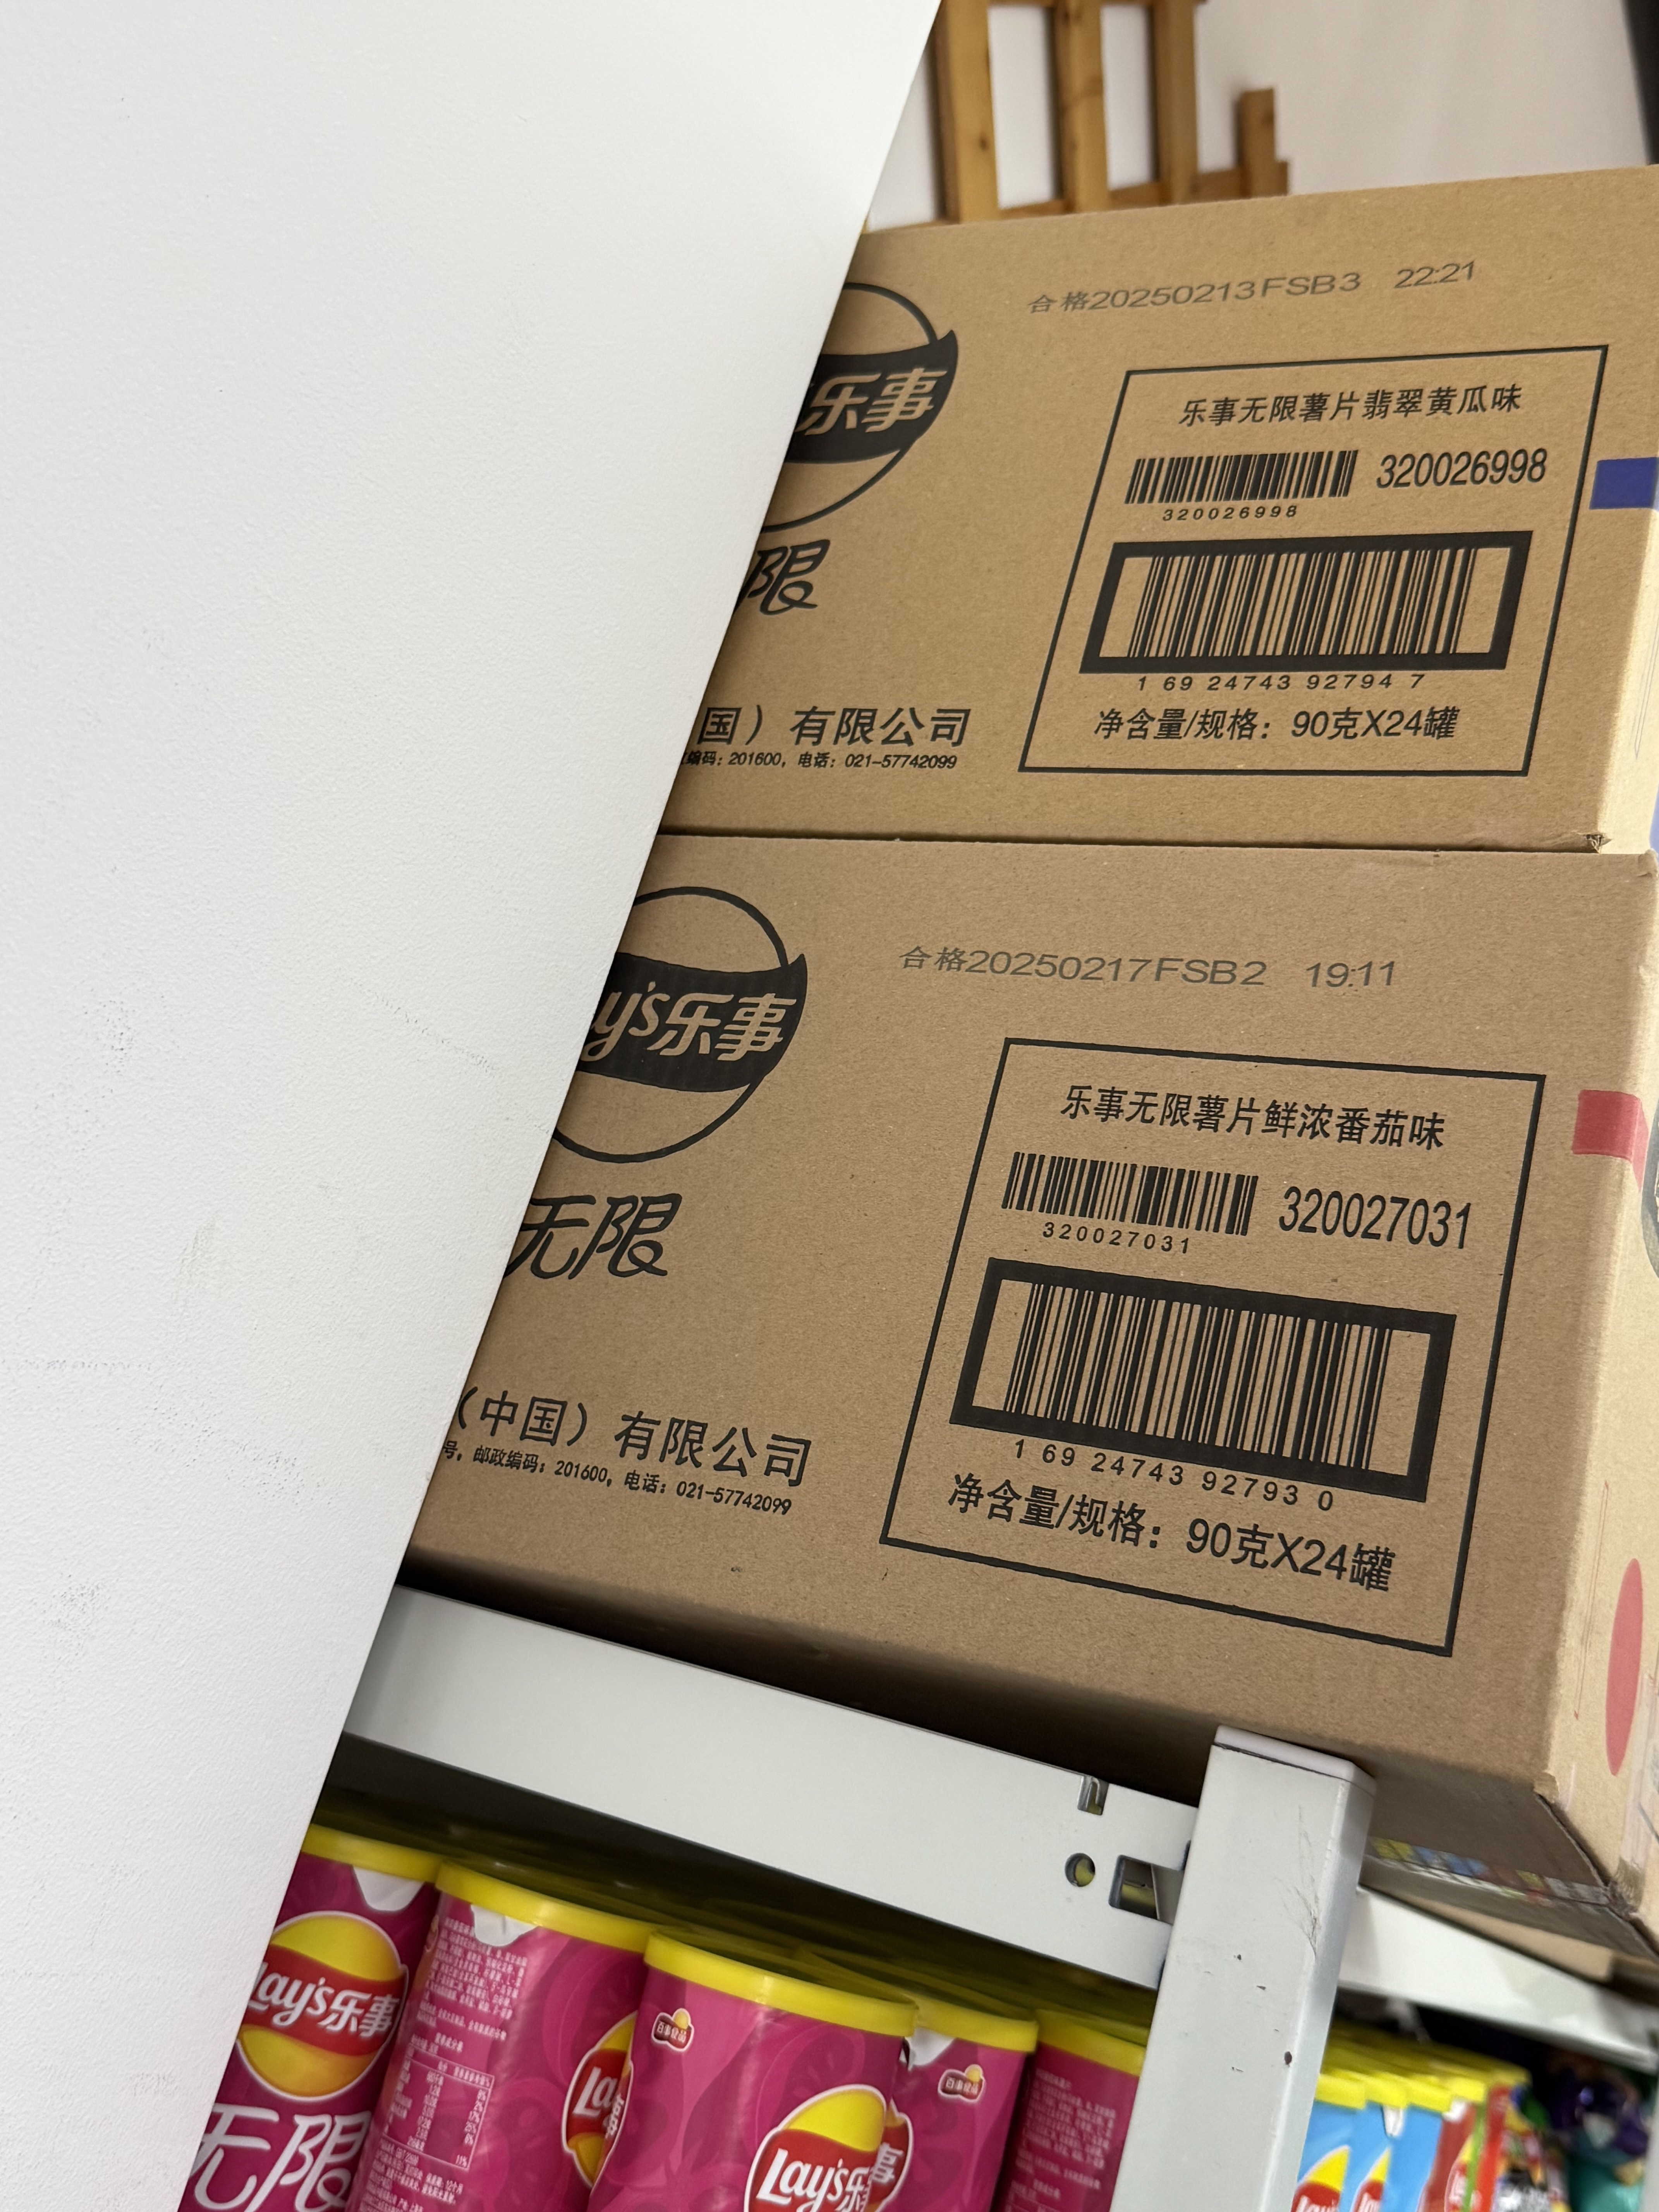bar: (1000, 1277, 1396, 1477), (1124, 545, 1480, 660), (999, 1150, 1263, 1242), (1119, 448, 1363, 507)
